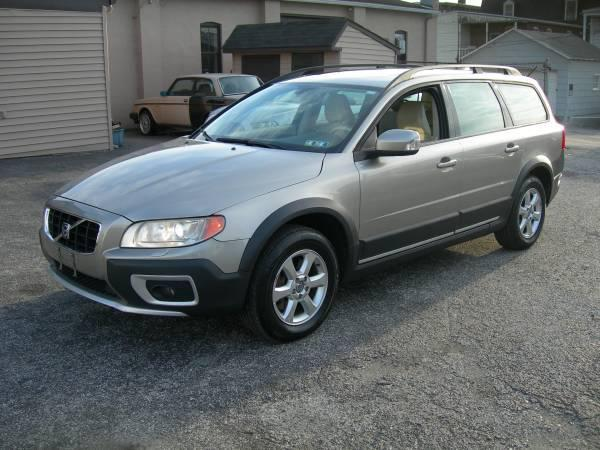Front_Bumper: (39, 226, 263, 318)
Front_Fender: (208, 153, 356, 268)
Front_Left_Door: (352, 136, 459, 268)
Front_Left_Window: (351, 79, 453, 160)
Front_Windshield: (192, 83, 386, 153)
Grille: (46, 205, 102, 252)
Hood: (49, 135, 324, 227)
Left_Headlight: (120, 215, 225, 250)
Rear_Fender: (497, 84, 568, 181)
Rear_Left_Door: (455, 127, 526, 239)
Rear_Left_Window: (442, 82, 511, 137)
Roof: (274, 64, 557, 150)
Wheel: (253, 224, 346, 339), (497, 177, 552, 251)
